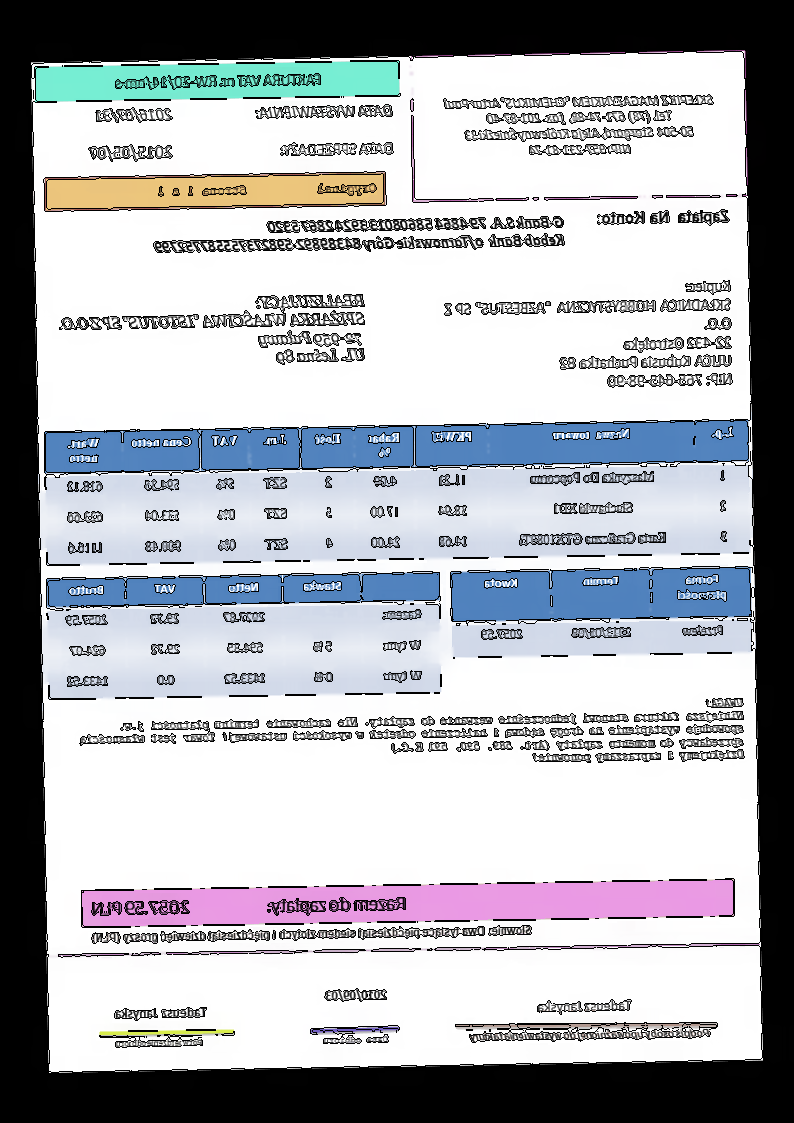Table: (43, 418, 752, 567), (46, 570, 443, 701), (449, 565, 754, 660)
TextBox: (75, 694, 746, 774), (442, 276, 736, 392), (55, 291, 370, 372), (441, 87, 719, 161), (152, 212, 568, 257), (90, 921, 535, 947), (88, 889, 409, 919), (113, 66, 325, 94), (466, 1022, 714, 1045), (154, 178, 379, 202), (253, 99, 396, 122), (278, 136, 396, 161), (596, 206, 731, 227), (85, 141, 177, 164), (111, 1002, 209, 1023), (535, 995, 634, 1015), (94, 104, 176, 124), (114, 1036, 205, 1051), (323, 984, 389, 1003), (322, 1032, 391, 1048)
